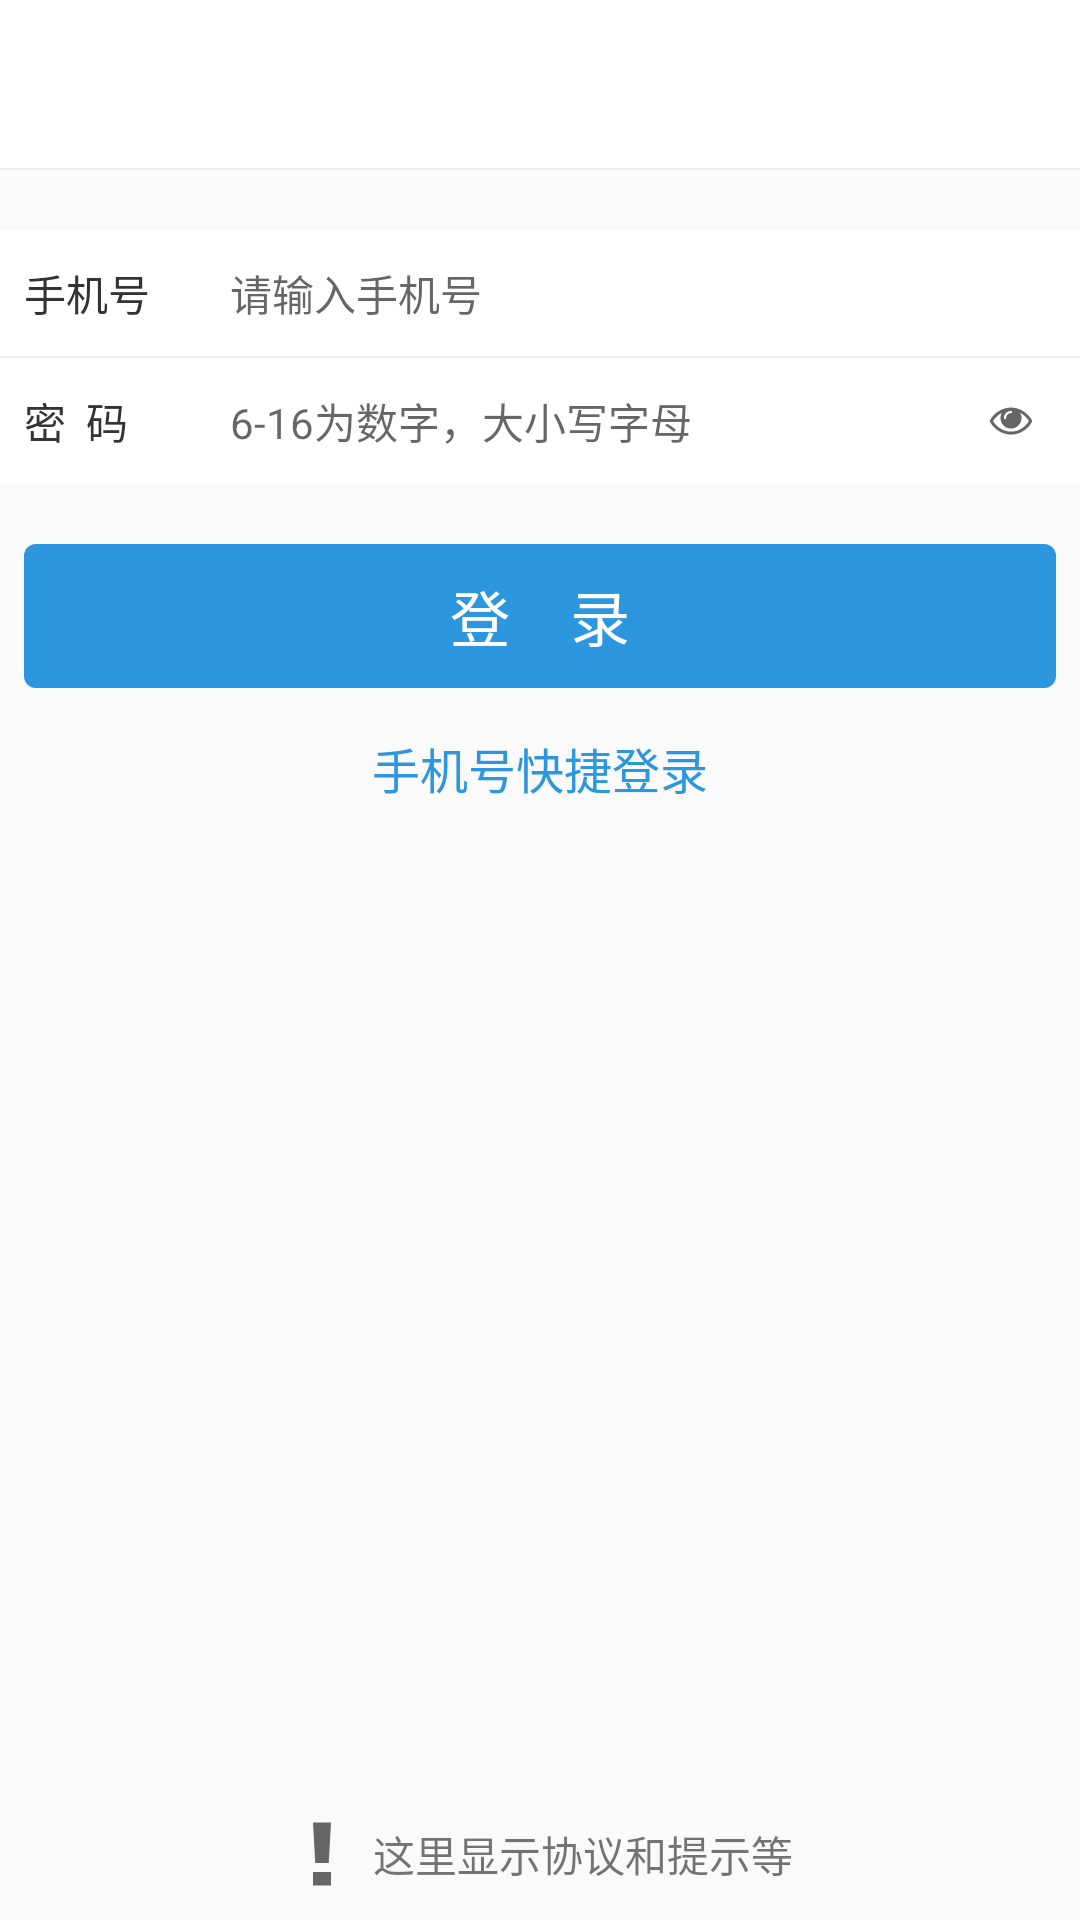

Icons on this 1080x1920 Android screen, each with the point to tap as (x=x, y=y):
alert: (x=322, y=1854)
eye: (x=1011, y=421)
